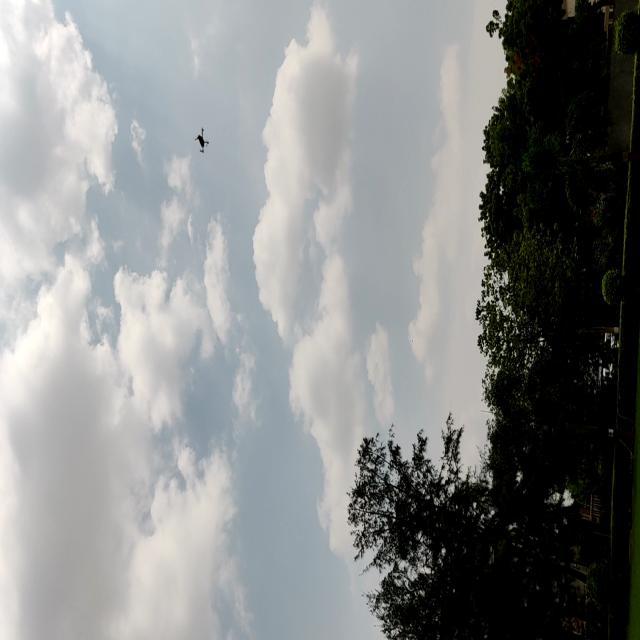drone: (194, 122, 214, 161)
